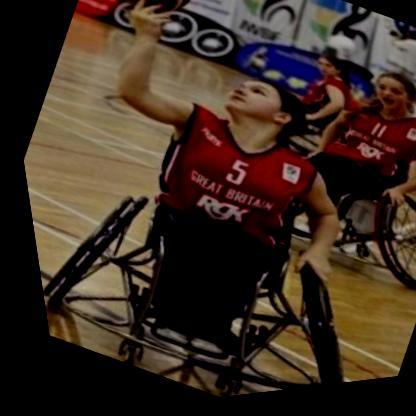basketball: (88, 0, 215, 40)
